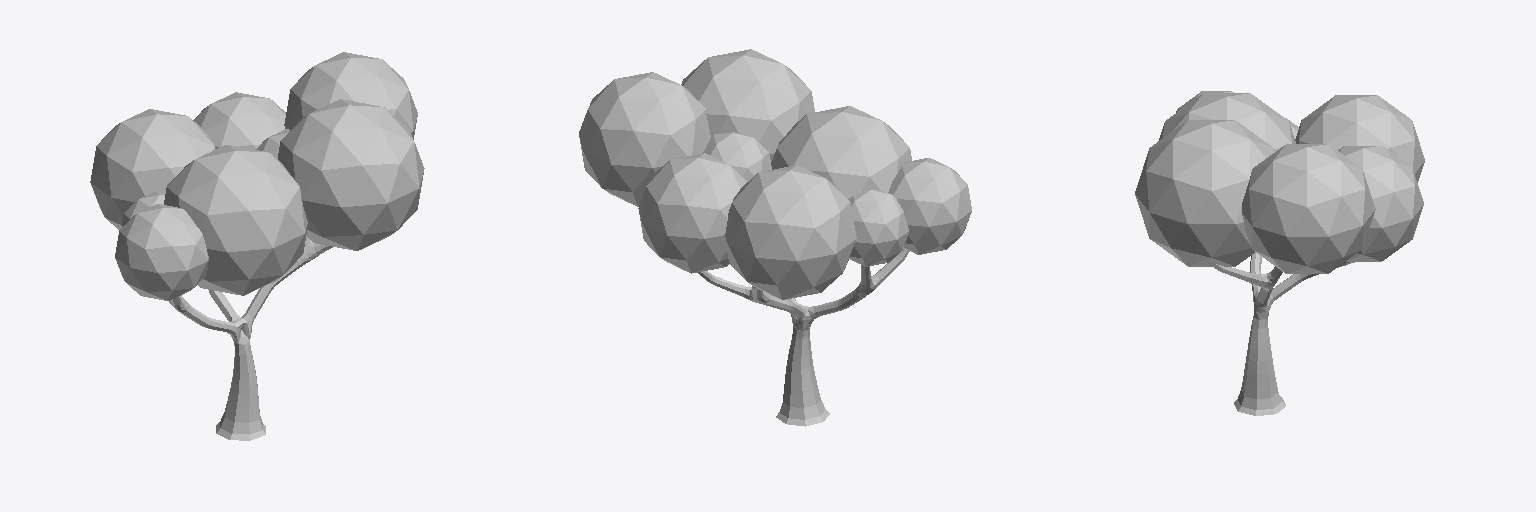
File: tree.obj
3 views of the same model, side by side, from view 1: azimuth 30°, elevation 25°; view 2: azimuth 150°, elevation 25°; view 3: azimuth 270°, elevation 25° (orthographic).
Visible parts, largest first — view 1: Icosphere, Plane; view 2: Icosphere, Plane; view 3: Icosphere, Plane.
Part boxes in pixels (left/top/right/bottom): Icosphere: left=90, top=52, right=424, bottom=300; Plane: left=169, top=236, right=332, bottom=440; Icosphere: left=579, top=49, right=971, bottom=299; Plane: left=698, top=248, right=909, bottom=426; Icosphere: left=1135, top=91, right=1424, bottom=273; Plane: left=1207, top=252, right=1354, bottom=415.
Size of the model in its own units: 10.74 by 10.07 by 8.19.